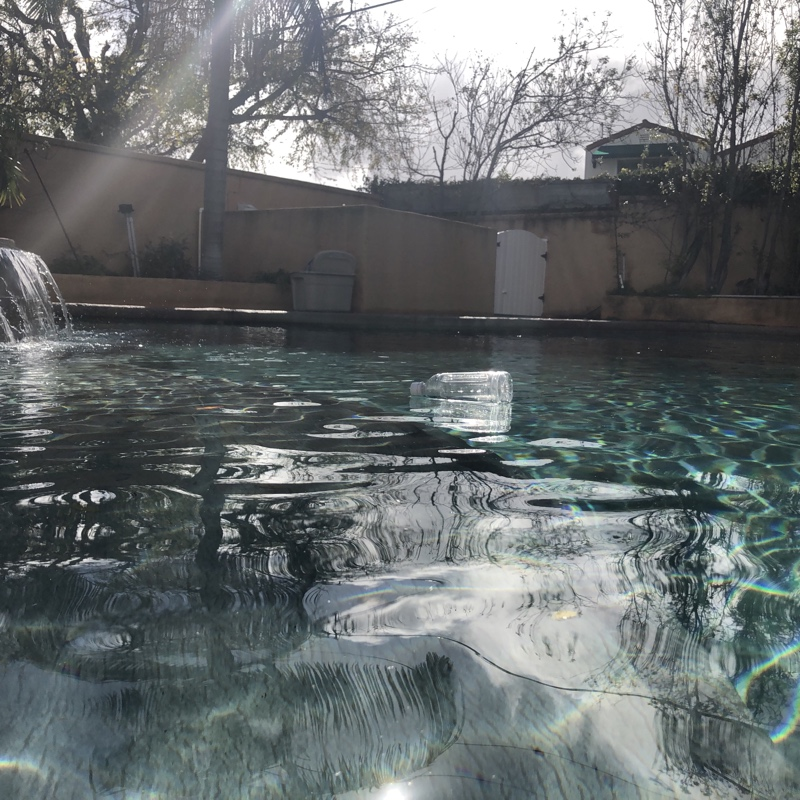Plastic Bottle: (405, 369, 516, 409)
